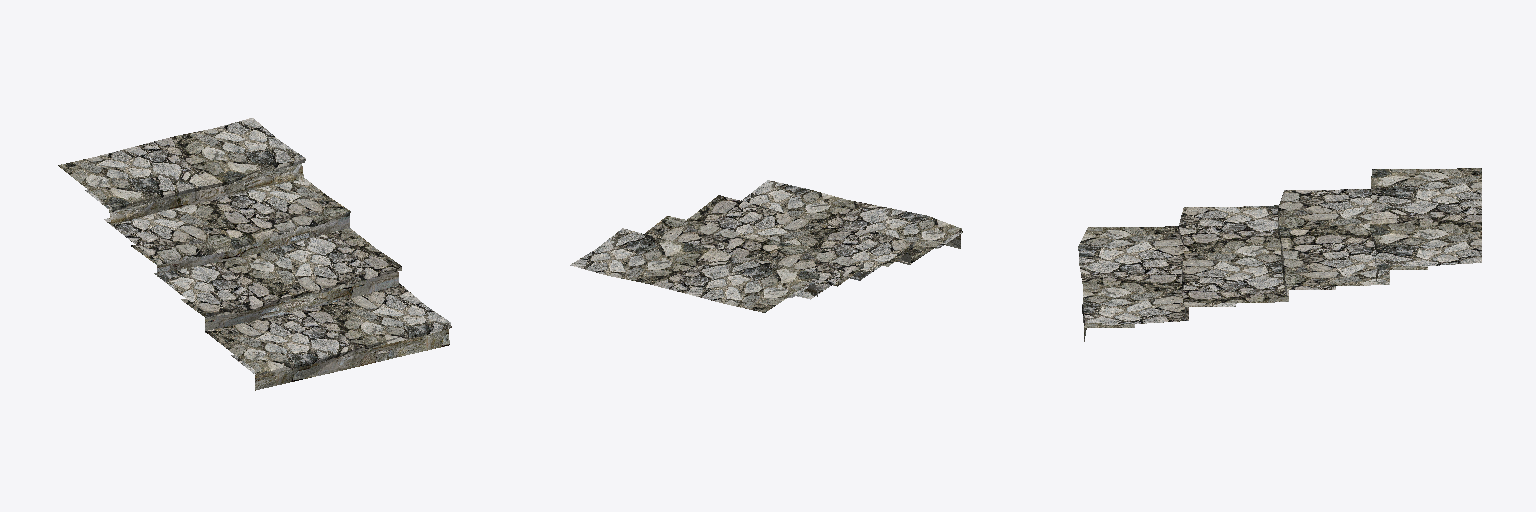
3 renders of one model, left to right at view 1: azimuth 30°, elevation 25°; view 2: azimuth 150°, elevation 25°; view 3: azimuth 270°, elevation 25°, orthographic.
Parts seen in each view (by area): view 1: Box04, Box03, Box01, Box02, Plane03, Plane04, Plane02, Plane01; view 2: Box04, Box01, Box03, Box02; view 3: Box04, Box03, Box01, Box02.
Part boxes in pixels (bbox=[...]): Box04: bbox=[58, 118, 305, 211]; Box03: bbox=[205, 283, 451, 374]; Box01: bbox=[154, 228, 401, 317]; Box02: bbox=[104, 178, 350, 264]; Plane03: bbox=[255, 329, 449, 390]; Plane04: bbox=[109, 164, 303, 224]; Plane02: bbox=[205, 272, 398, 332]; Plane01: bbox=[157, 216, 349, 276]; Box04: bbox=[570, 228, 819, 312]; Box01: bbox=[687, 195, 913, 279]; Box03: bbox=[741, 180, 962, 263]; Box02: bbox=[645, 216, 863, 299]; Box04: bbox=[1369, 168, 1481, 269]; Box03: bbox=[1078, 226, 1188, 327]; Box01: bbox=[1178, 205, 1288, 306]; Box02: bbox=[1278, 189, 1389, 289].
Size of the model in its own units: 2.11 by 0.8484 by 3.77.
Materials: 2 (2 with a texture image).